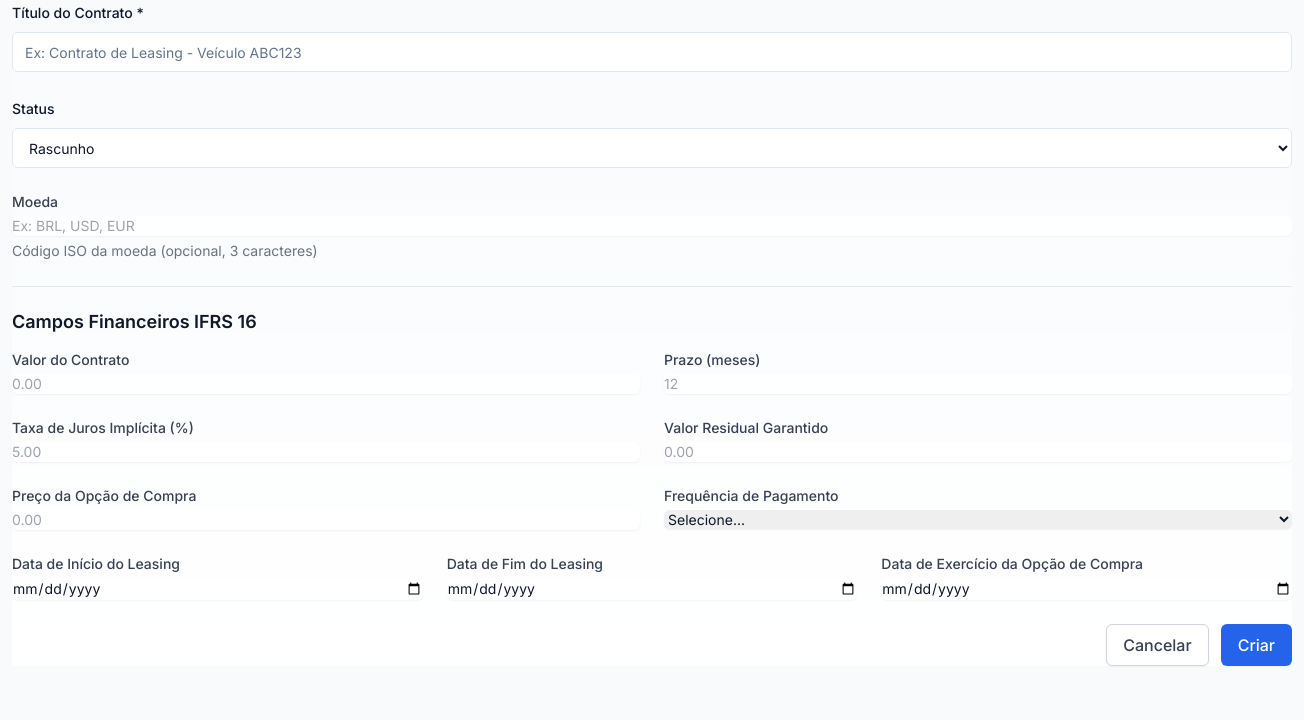
Test: ContractForm › clears errors when user starts typing
This screenshot has width=1304, height=720.
Note: Trigger validation error
Click the button "Criar" at (1256, 645), box [1221, 624, 1292, 666]
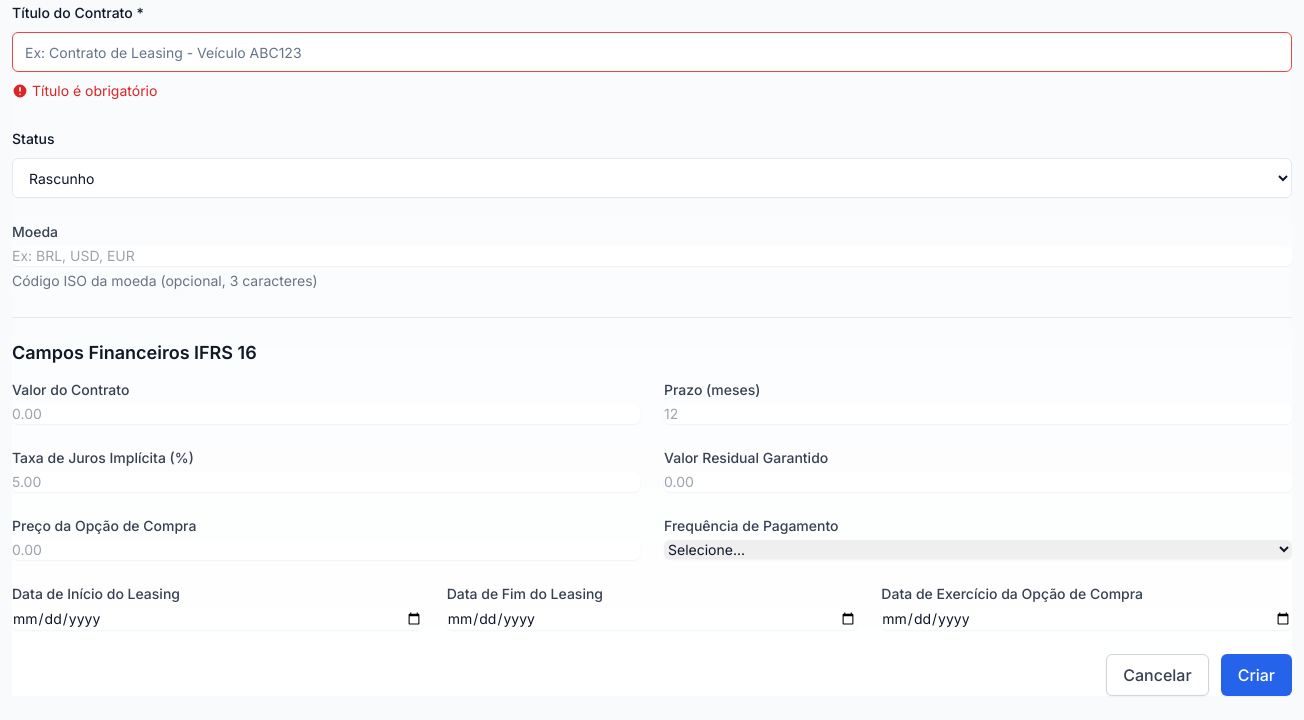
Check: the text "Título é obrigatório" is shown, box [12, 82, 157, 99]
Note: Start typing to clear error
Type "Test" into the field labelled "Título do Contrato *" at (652, 52), box [12, 32, 1292, 72]
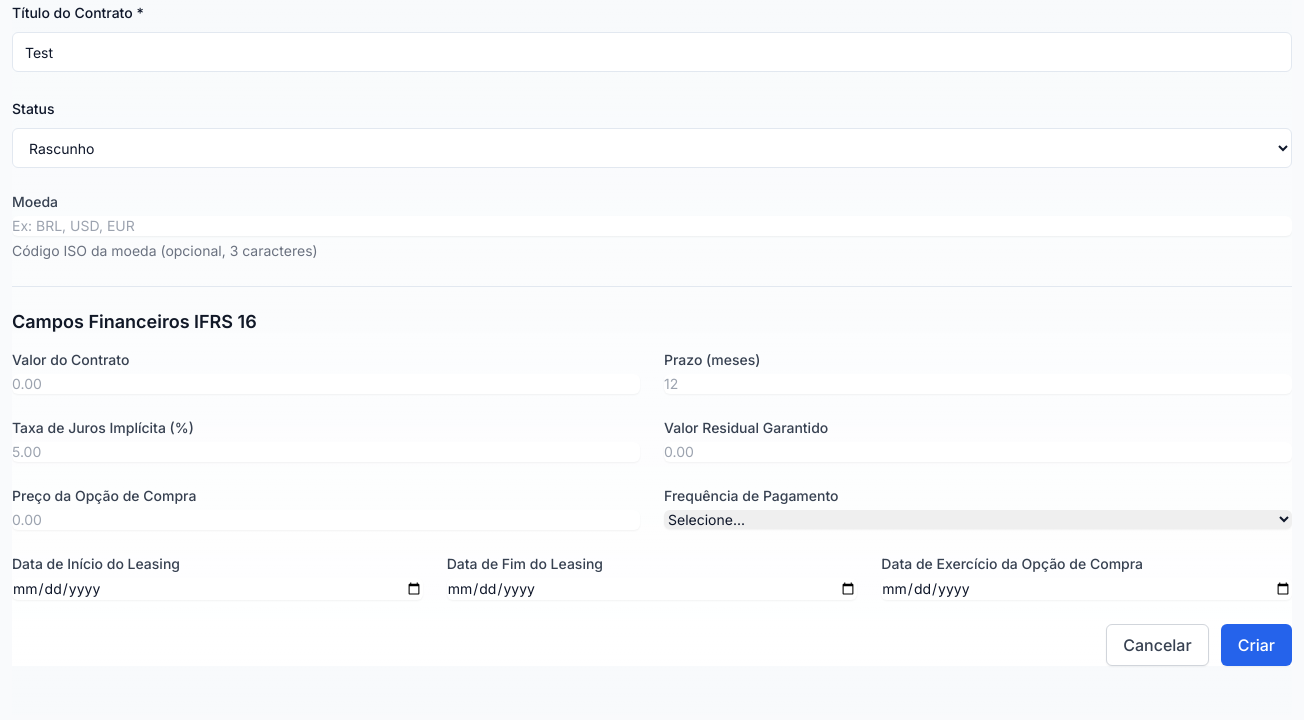
Check: the text "Título é obrigatório" is gone
